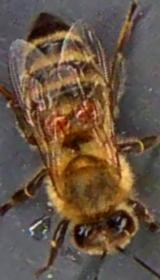varroa_mite: (74, 94, 100, 125), (44, 110, 66, 133)
